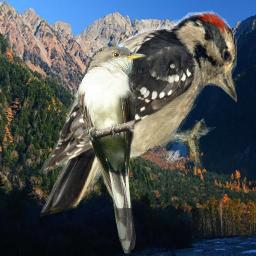Cuckoo: (78, 44, 146, 255)
Woodpecker: (23, 9, 237, 223)
